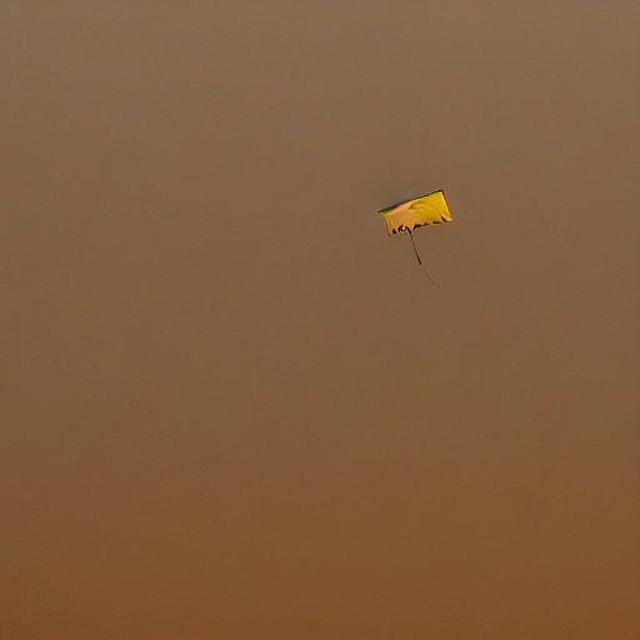floating object: (376, 187, 454, 235)
